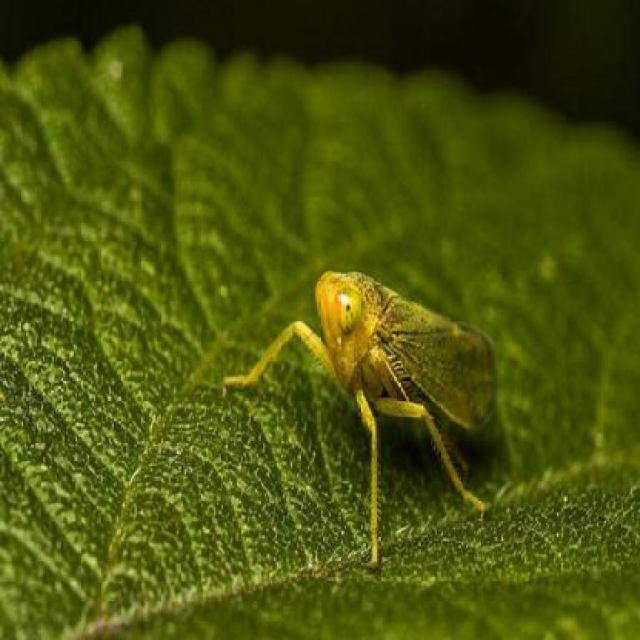green-leafhopper: (222, 266, 503, 552)
